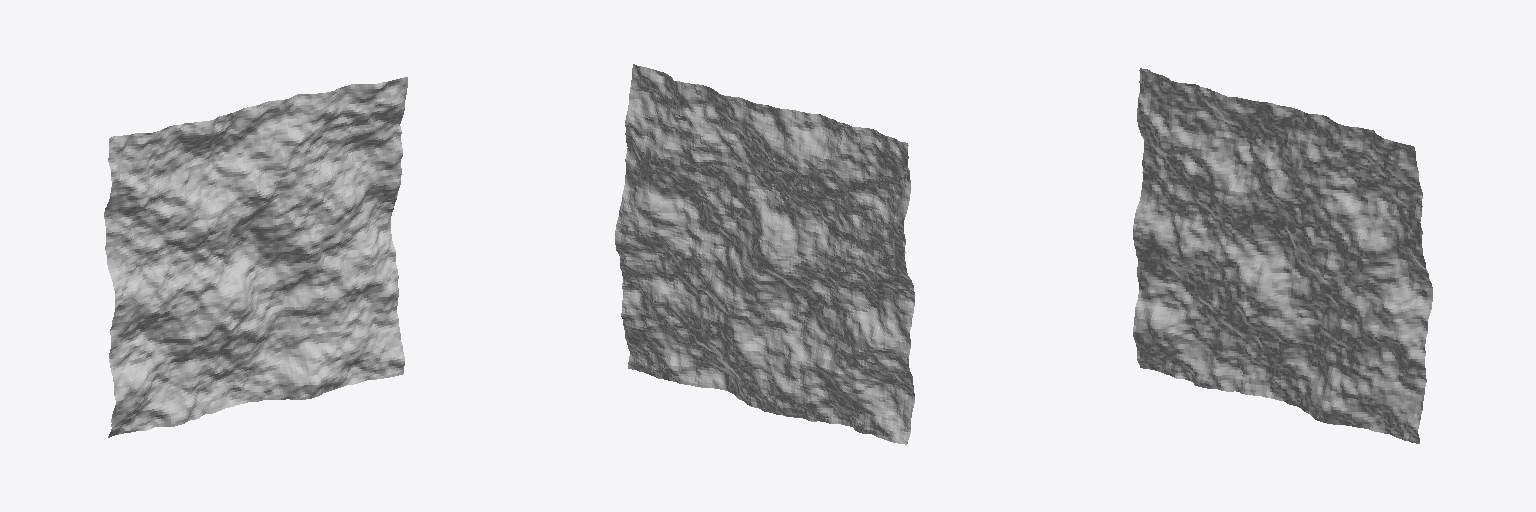
File: terrain_01.obj
3 renders of one model, left to right at view 1: azimuth 30°, elevation 25°; view 2: azimuth 150°, elevation 25°; view 3: azimuth 330°, elevation 25°, orthographic.
Parts seen in each view (by area): view 1: Plane; view 2: Plane; view 3: Plane.
Boxes of the visible parts, x1,y1,x2,y2 form: Plane: [104, 77, 407, 437]; Plane: [615, 64, 914, 444]; Plane: [1133, 68, 1432, 443].
Bounding box in the file's own units: 20 × 20 × 2.19.